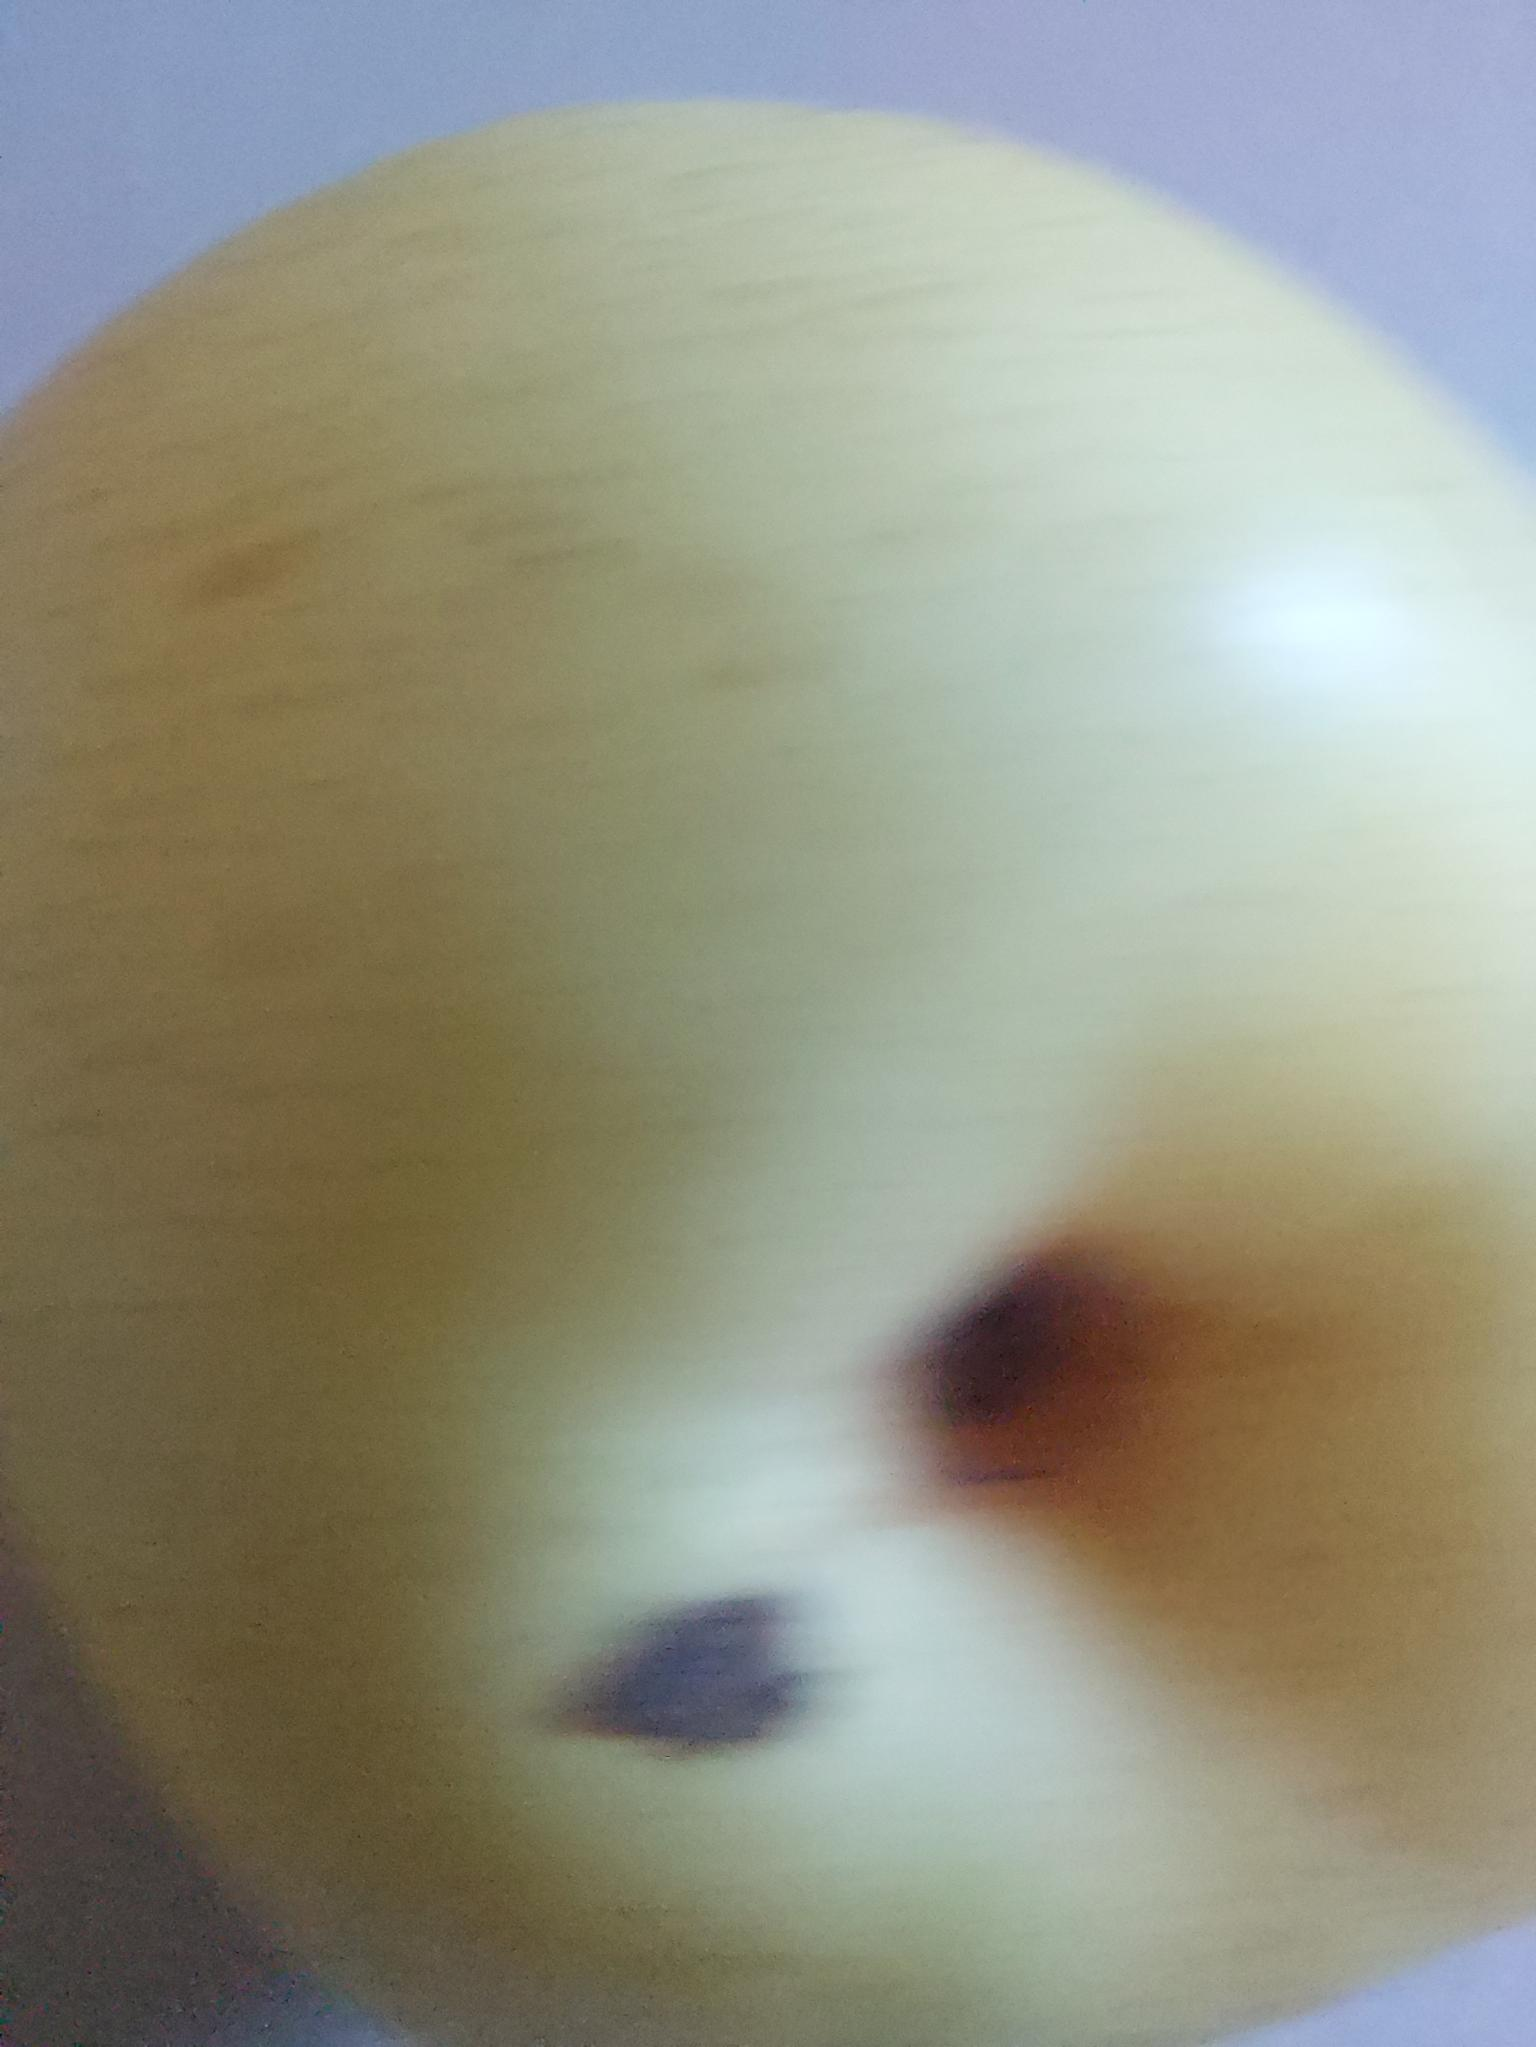Good Pear: (11, 76, 1536, 2047)
